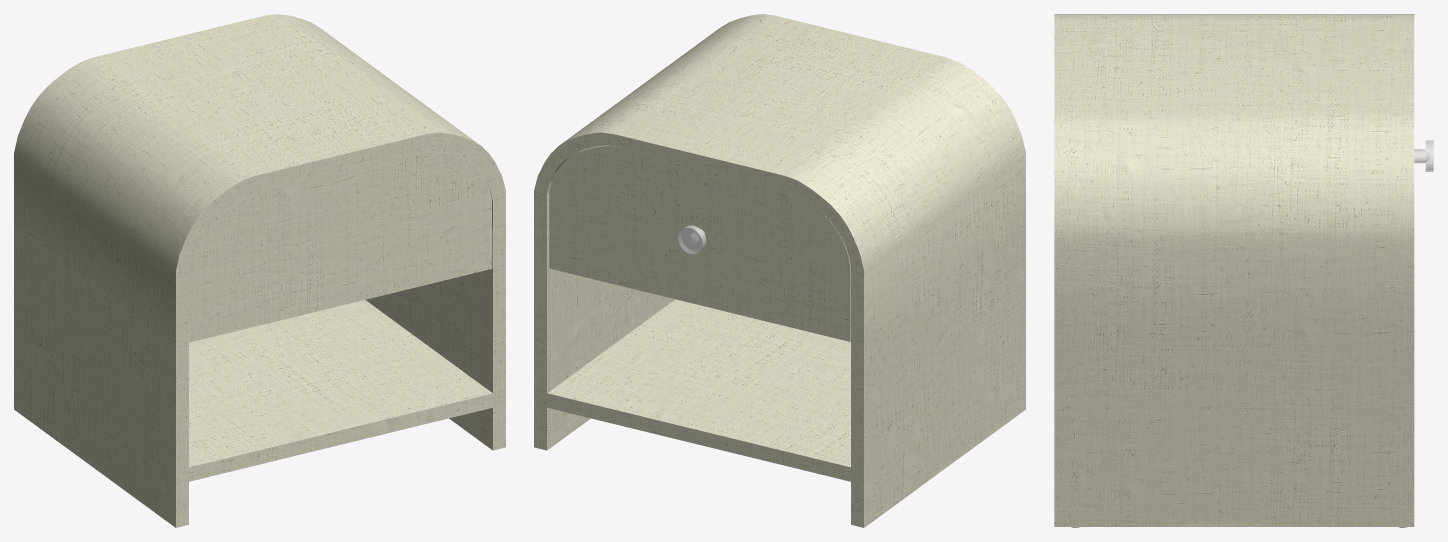
Rendered from archer_laquered_linen_nightnstand.glb.
3 views of the same model, side by side, from view 1: azimuth 30°, elevation 25°; view 2: azimuth 150°, elevation 25°; view 3: azimuth 270°, elevation 25° (orthographic). The views are drawn at different scales.
Parts seen in each view (by area): view 1: ed2a1b5b_d9cb_42d9_bf28_ed64174756d5; view 2: ed2a1b5b_d9cb_42d9_bf28_ed64174756d5; view 3: ed2a1b5b_d9cb_42d9_bf28_ed64174756d5.
Boxes of the visible parts, <box> form: ed2a1b5b_d9cb_42d9_bf28_ed64174756d5: <box>14,14,505,527</box>; ed2a1b5b_d9cb_42d9_bf28_ed64174756d5: <box>534,14,1025,527</box>; ed2a1b5b_d9cb_42d9_bf28_ed64174756d5: <box>1054,14,1433,527</box>.
Size of the model in its own units: 55.34 by 54.31 by 49.48.
3 materials, 2 textured.
